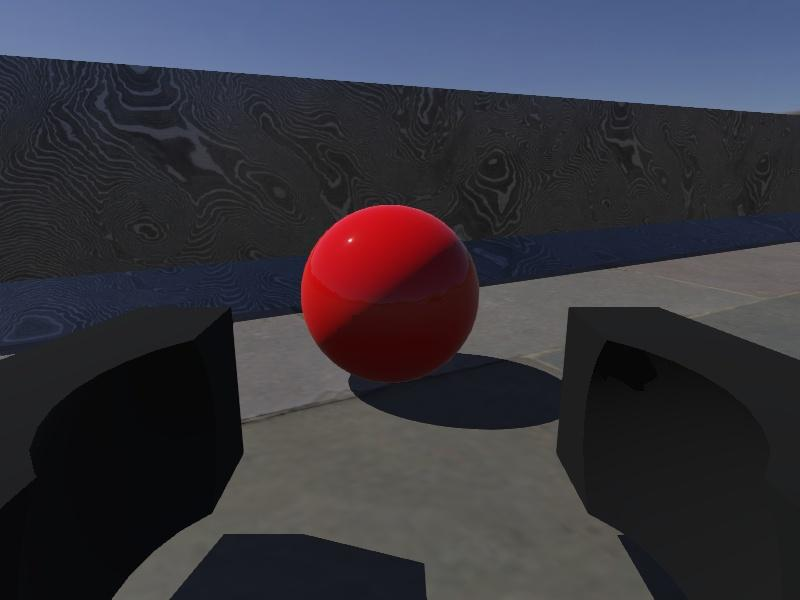red ball: (299, 203, 481, 385)
